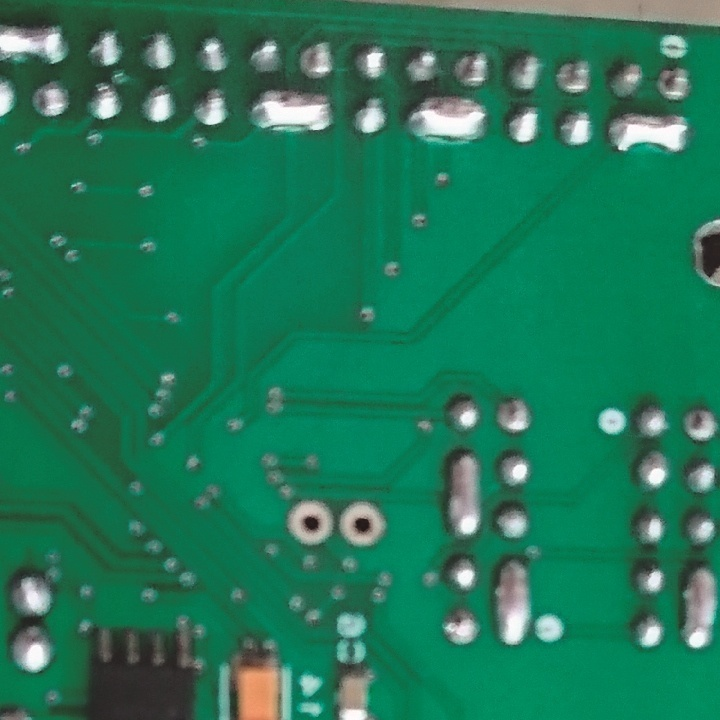F: (334, 498, 386, 550), (287, 499, 335, 544), (26, 77, 70, 123), (681, 403, 719, 449), (493, 394, 533, 436), (555, 55, 595, 95), (441, 605, 480, 646), (452, 46, 489, 89), (299, 38, 335, 80), (656, 64, 694, 103)
P: (494, 551, 537, 654), (250, 86, 332, 138), (607, 109, 694, 158), (443, 443, 483, 543), (1, 16, 71, 71), (408, 92, 483, 143), (679, 559, 720, 652)
